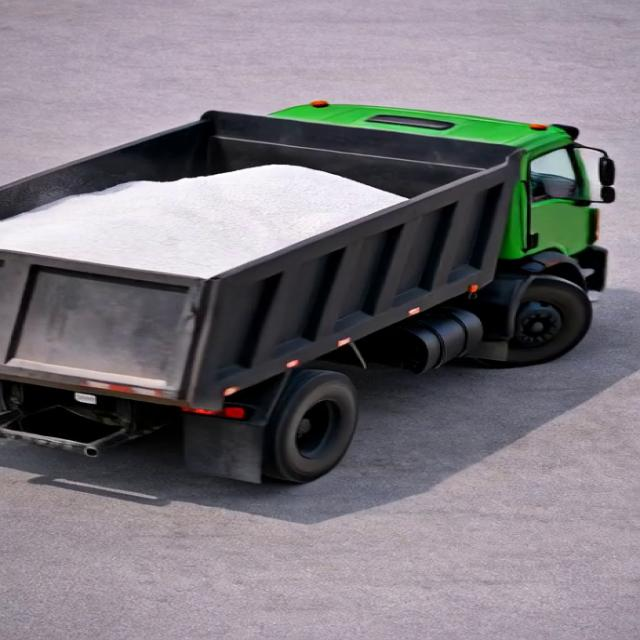trailer: (0, 111, 514, 272)
truck: (0, 99, 638, 489)
